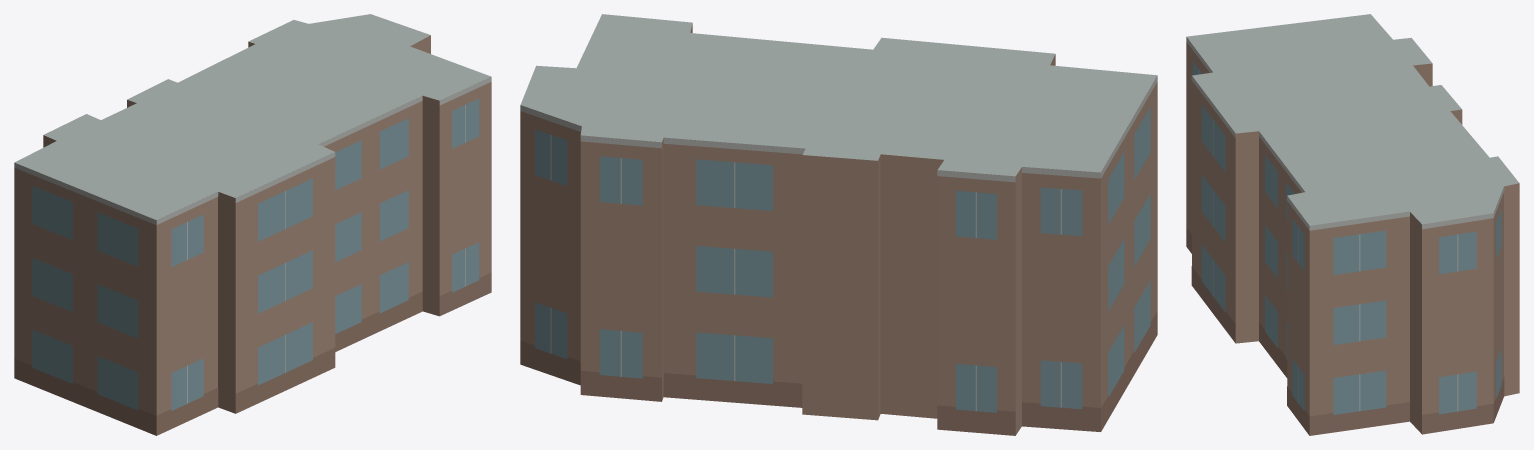
Rendered from survey-upis-32759383.glb.
3 renders of one model, left to right at view 1: azimuth 30°, elevation 25°; view 2: azimuth 150°, elevation 25°; view 3: azimuth 270°, elevation 25°, orthographic. The views are drawn at different scales.
Visible parts, largest first — view 1: survey-upis-32759383.tmp; view 2: survey-upis-32759383.tmp; view 3: survey-upis-32759383.tmp.
Part boxes in pixels (left/top/right/bottom): survey-upis-32759383.tmp: left=14, top=14, right=491, bottom=435; survey-upis-32759383.tmp: left=520, top=14, right=1157, bottom=435; survey-upis-32759383.tmp: left=1186, top=14, right=1519, bottom=435.
Bounding box in the file's own units: 22.73 × 10.5 × 15.11.
